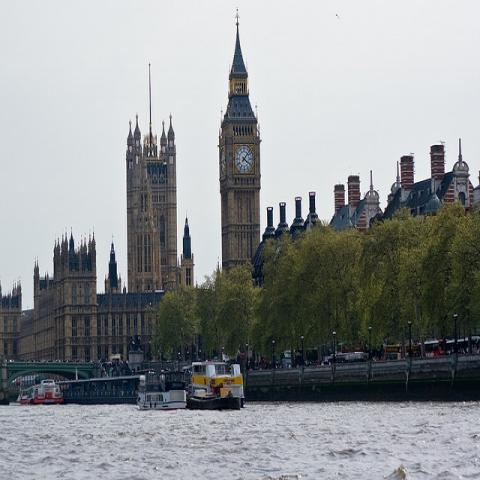bus: (446, 334, 479, 355), (338, 340, 372, 360), (418, 340, 448, 358), (381, 344, 409, 360)
car: (324, 353, 345, 365)
